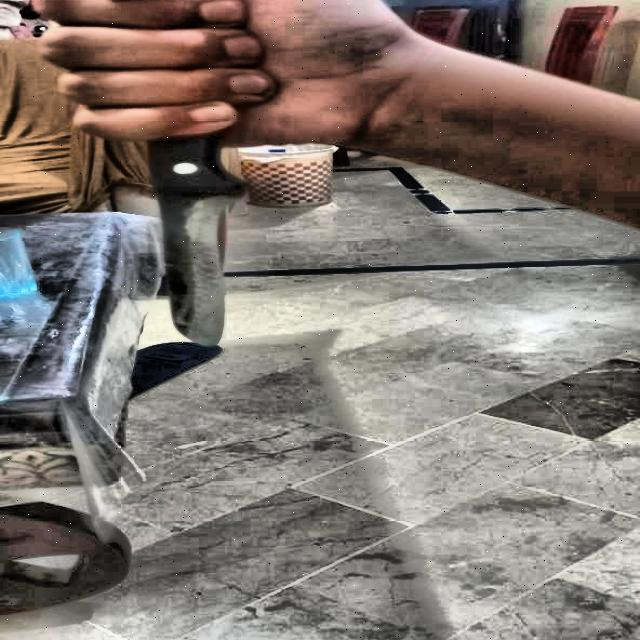knife: (153, 133, 245, 344)
